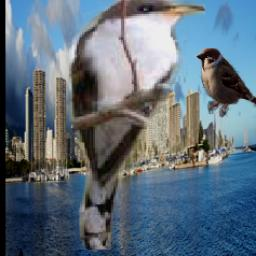Cuckoo: (65, 0, 205, 250)
Sparrow: (196, 46, 256, 117)
